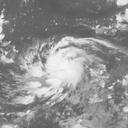cyclone: (34, 36, 93, 94)
